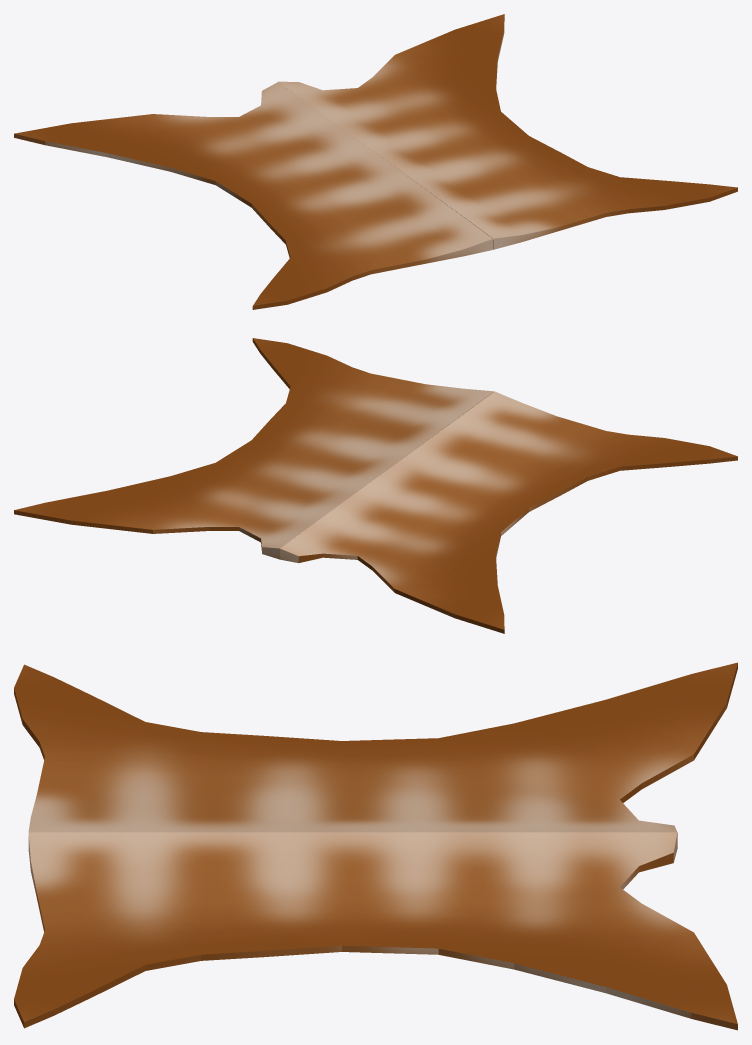
The model's file is animal hide.obj.
The picture shows the model from 3 angles, top to bottom: view 1: azimuth 30°, elevation 25°; view 2: azimuth 150°, elevation 25°; view 3: azimuth 270°, elevation 25°; orthographic projection. The views are drawn at different scales.
Visible parts, largest first — view 1: animal hide; view 2: animal hide; view 3: animal hide.
Boxes of the visible parts, x1=… form: animal hide: x1=14, y1=14, x2=737, y2=309; animal hide: x1=14, y1=338, x2=737, y2=633; animal hide: x1=14, y1=662, x2=737, y2=1030.
Bounding box in the file's own units: 1.21 × 0.0263 × 1.03.
